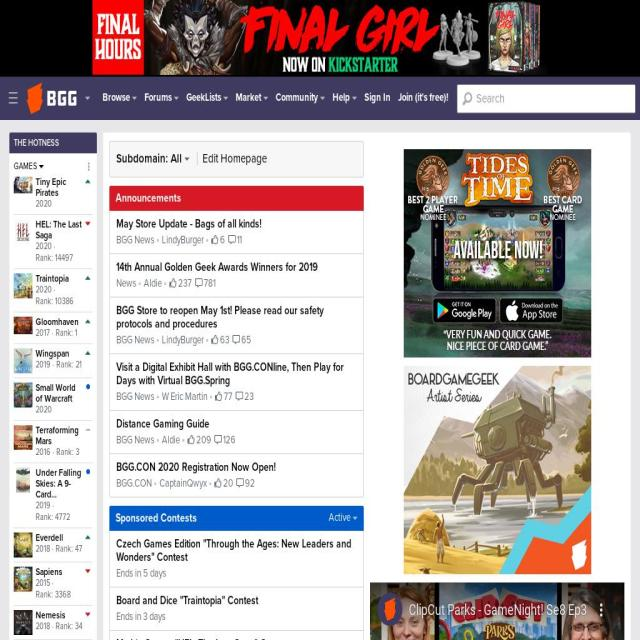button: (13, 468, 92, 524), (13, 219, 92, 264), (13, 274, 92, 308), (13, 382, 92, 416), (13, 567, 92, 601), (13, 177, 92, 210), (13, 425, 92, 458), (13, 348, 92, 374), (13, 532, 92, 558), (13, 610, 92, 635), (13, 317, 92, 339), (116, 150, 190, 168), (394, 88, 452, 109), (272, 88, 329, 109), (182, 88, 232, 109), (98, 88, 140, 109), (140, 88, 182, 109), (232, 88, 272, 109), (360, 88, 394, 109), (328, 88, 361, 109), (459, 86, 475, 113), (14, 161, 44, 172), (328, 513, 358, 524), (81, 90, 94, 107), (15, 138, 30, 150), (10, 82, 24, 94), (85, 160, 93, 172)
field: (457, 84, 636, 114)
heading: (116, 360, 344, 388), (116, 537, 352, 564), (116, 303, 324, 331), (116, 260, 318, 274), (116, 460, 276, 474), (116, 217, 262, 231), (116, 594, 258, 608), (116, 417, 210, 431), (116, 513, 196, 524), (116, 193, 181, 204), (116, 636, 290, 640)
iframe: (403, 149, 591, 358), (403, 366, 591, 574), (92, 0, 548, 75), (370, 582, 624, 640)
image: (13, 348, 32, 374), (13, 382, 32, 408), (13, 532, 32, 558), (13, 566, 32, 592), (13, 425, 32, 450), (13, 610, 32, 635), (13, 274, 32, 298), (14, 219, 32, 244), (16, 468, 30, 492), (13, 317, 32, 334), (13, 177, 32, 193), (211, 234, 219, 245), (211, 334, 219, 345), (232, 334, 240, 345), (215, 391, 223, 402), (235, 391, 243, 402), (187, 434, 195, 445), (214, 434, 222, 445), (169, 278, 177, 288), (214, 478, 222, 488), (228, 234, 235, 245), (195, 278, 202, 288), (236, 478, 243, 488), (86, 384, 90, 389), (86, 469, 90, 474)
link: (202, 150, 267, 166), (159, 477, 207, 490), (161, 233, 204, 247), (161, 333, 204, 347), (162, 390, 208, 403), (116, 233, 156, 247), (116, 333, 156, 347), (116, 433, 156, 447), (116, 390, 156, 403), (116, 477, 154, 490), (116, 277, 138, 290), (161, 433, 180, 447), (143, 277, 162, 290)
text: (9, 132, 97, 154), (36, 468, 83, 500), (36, 219, 83, 241), (36, 425, 83, 447), (116, 151, 184, 166), (36, 177, 83, 198), (36, 383, 83, 404), (116, 567, 166, 580), (116, 610, 166, 623), (276, 91, 320, 104), (36, 316, 83, 328), (36, 532, 83, 544), (36, 566, 83, 578), (36, 348, 83, 359), (36, 610, 83, 621), (186, 91, 223, 104), (36, 274, 83, 284), (83, 219, 93, 264), (36, 252, 73, 264), (102, 91, 132, 104), (144, 91, 174, 104), (36, 296, 74, 306), (36, 589, 70, 600), (236, 91, 263, 104), (83, 274, 93, 308), (36, 512, 70, 522), (83, 567, 93, 601), (83, 177, 93, 210), (83, 425, 93, 458), (56, 620, 82, 632), (14, 160, 38, 172), (56, 359, 82, 370), (56, 447, 80, 458), (328, 513, 352, 524), (332, 91, 352, 104), (83, 348, 93, 374), (56, 544, 82, 554), (83, 532, 93, 558), (83, 610, 93, 635), (196, 433, 213, 447), (56, 328, 78, 338), (83, 317, 93, 339), (36, 240, 54, 252), (178, 277, 194, 290), (36, 284, 54, 295), (36, 198, 52, 210), (36, 620, 52, 632), (222, 433, 235, 447), (36, 359, 52, 370), (36, 404, 52, 415), (36, 447, 52, 458), (36, 500, 52, 511), (203, 277, 216, 290), (220, 333, 232, 347), (36, 328, 52, 338), (36, 544, 52, 554), (36, 578, 52, 588), (223, 477, 235, 490), (223, 390, 234, 403), (244, 477, 255, 490), (241, 333, 251, 347), (244, 390, 254, 403), (219, 233, 227, 247), (236, 233, 242, 247), (52, 620, 56, 632), (52, 359, 56, 370), (52, 447, 56, 458), (52, 328, 56, 338), (52, 544, 56, 554), (54, 240, 56, 252), (54, 284, 56, 295), (52, 500, 54, 511), (52, 578, 54, 588)
